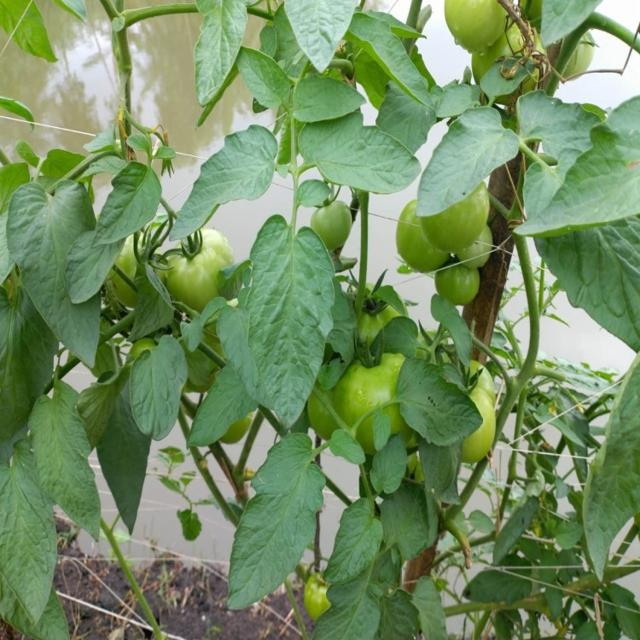tomato: (469, 32, 553, 100), (334, 352, 409, 428), (167, 231, 238, 305), (421, 184, 494, 247), (443, 1, 518, 54), (456, 381, 501, 462), (398, 201, 447, 272), (112, 240, 160, 307), (310, 198, 355, 258), (357, 286, 406, 340), (434, 265, 480, 305), (453, 228, 494, 266), (570, 35, 600, 81), (306, 572, 335, 615), (466, 356, 498, 393), (220, 414, 253, 449), (126, 333, 162, 364)
